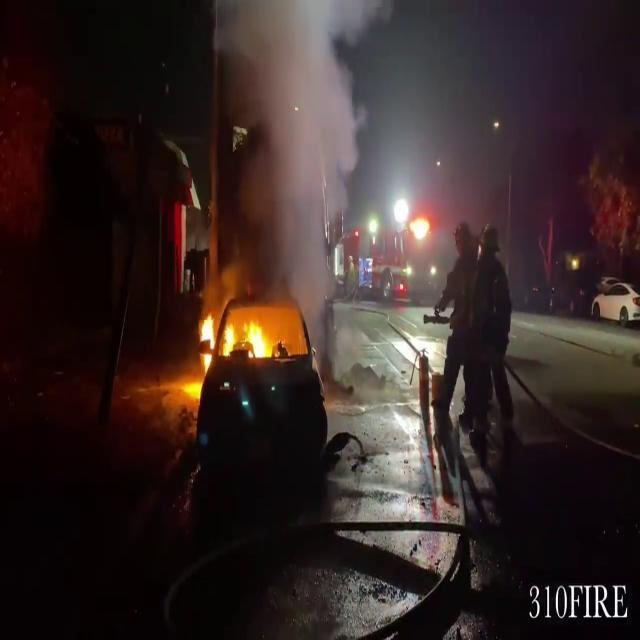Fire: (195, 290, 279, 374)
Smoke: (214, 0, 362, 318)
